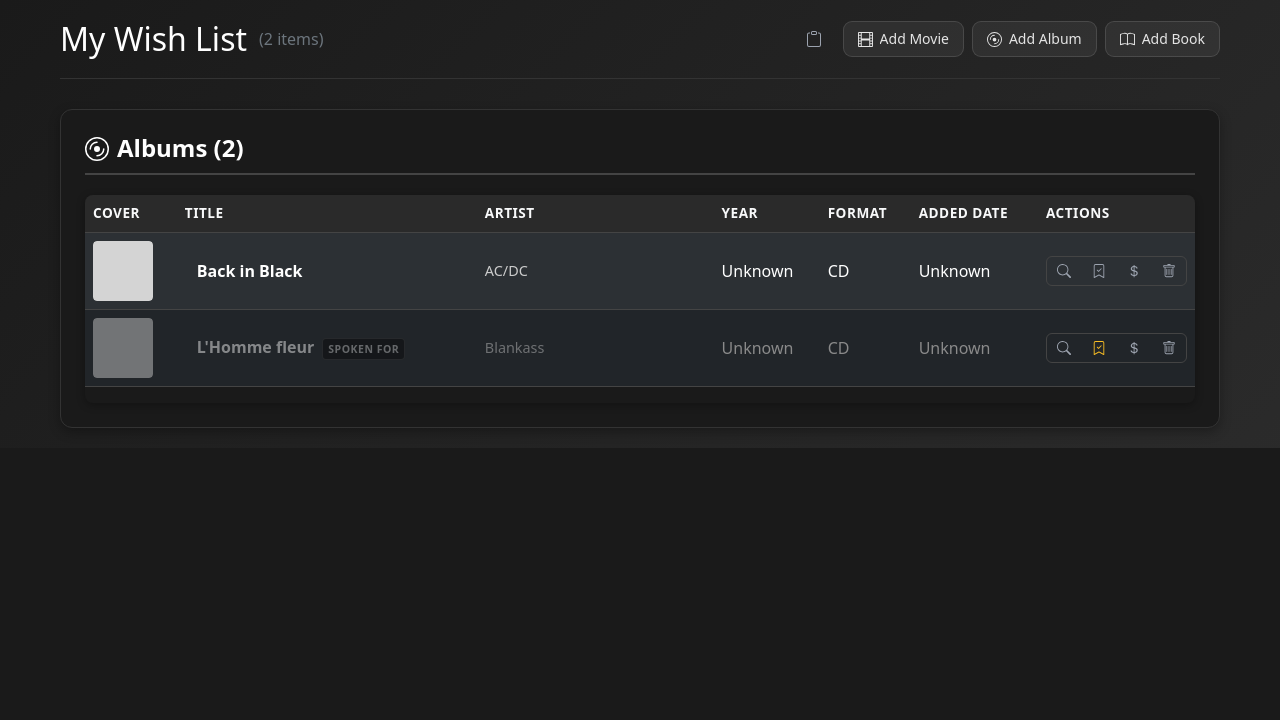
Test: WishListPage, spoken for › revient en arrière quand l’enregistrement échoue
This screenshot has width=1280, height=720.
Click the button named "Mark as spoken for".
click(1099, 271)  # box [1082,257,1116,285]
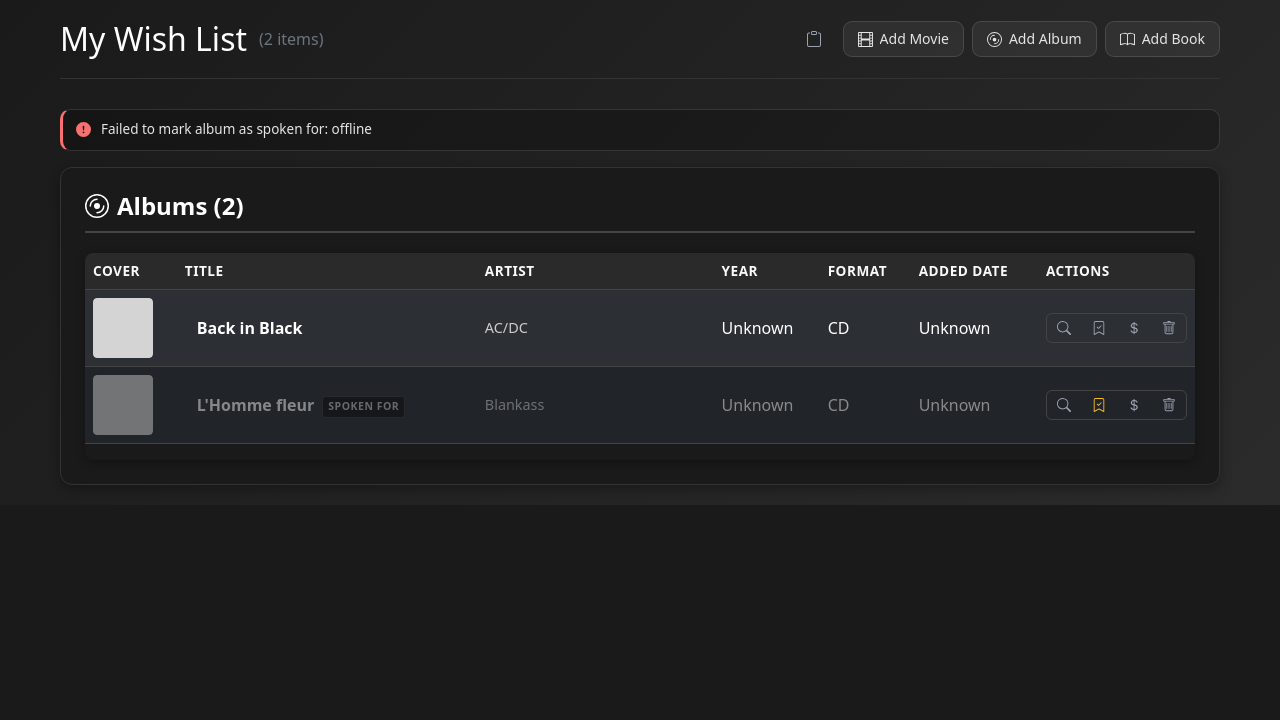
Check: the text "Failed to mark album as spoken for: offline" is shown, box [101,120,372,138]
